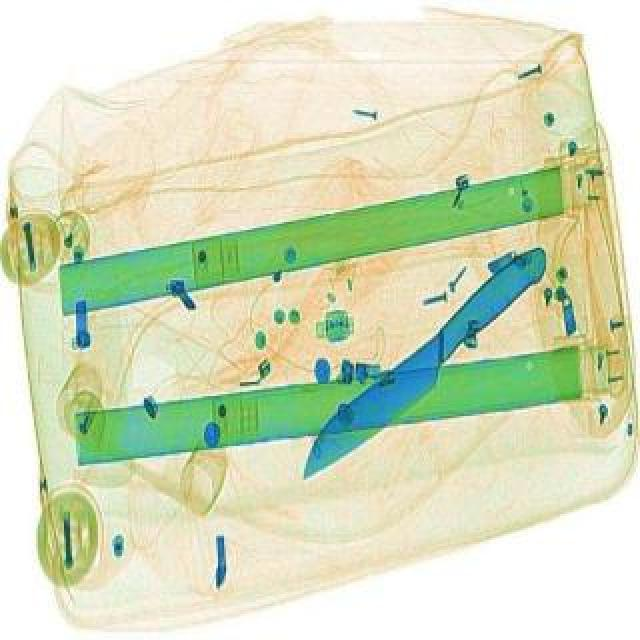knife: (288, 240, 568, 496)
